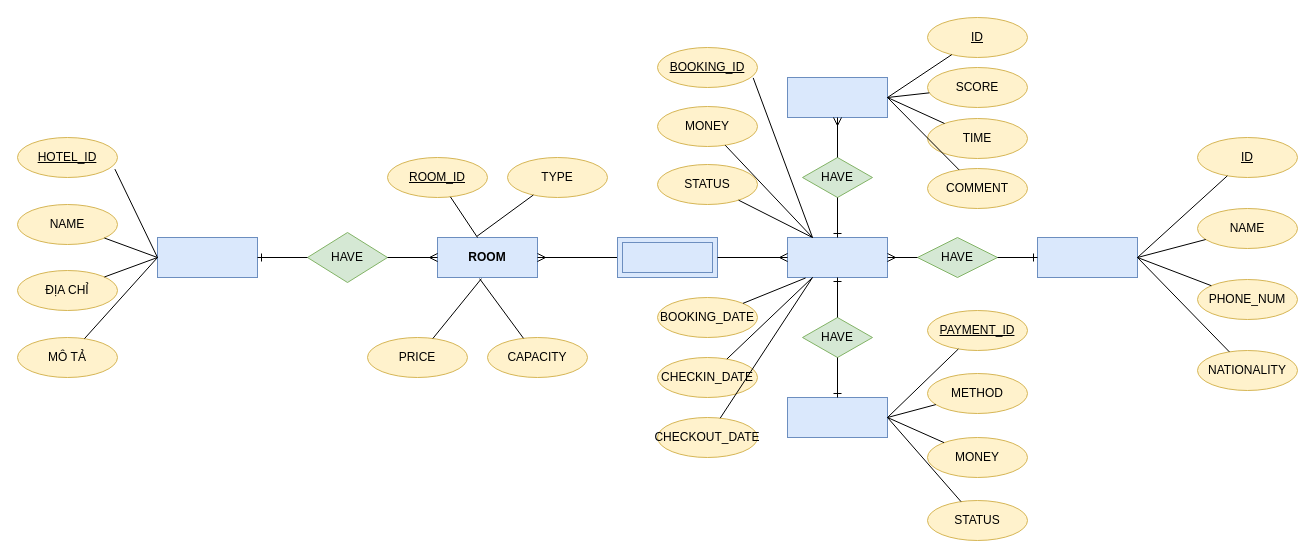
The diagram is 1315 pixels wide and 558 high, and some of its shapes have lost their labels. Here are the shapes that lost their labels. From the top down, the centre of each, then its label:
At (x=837, y=97): "REVIEW".
At (x=207, y=257): "HOTEL".
At (x=667, y=257): "ROOM_BOOKING".
At (x=837, y=257): "BOOKING".
At (x=1087, y=257): "CUSTOMER".
At (x=837, y=417): "PAYMENT".
